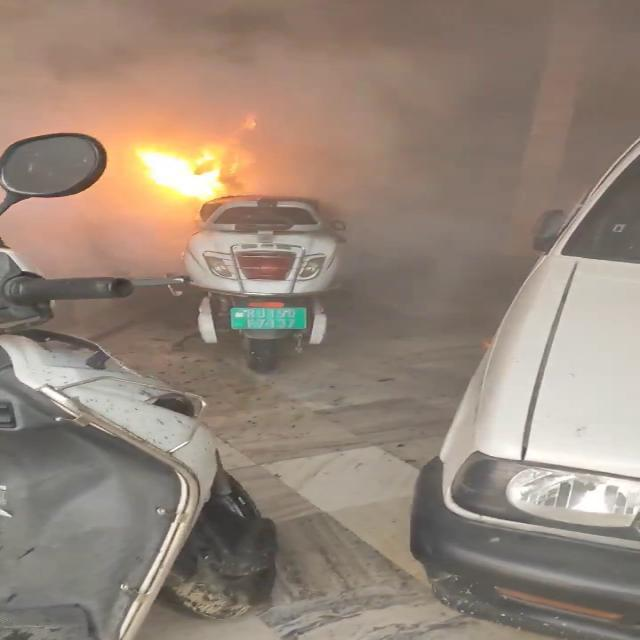Fire: (125, 138, 245, 206)
Smoke: (0, 0, 637, 142)
